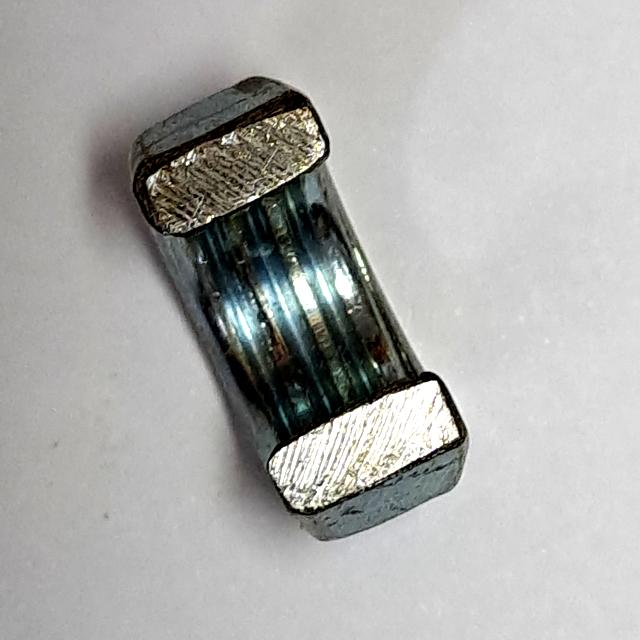Side-Fracture: (111, 61, 480, 556)
